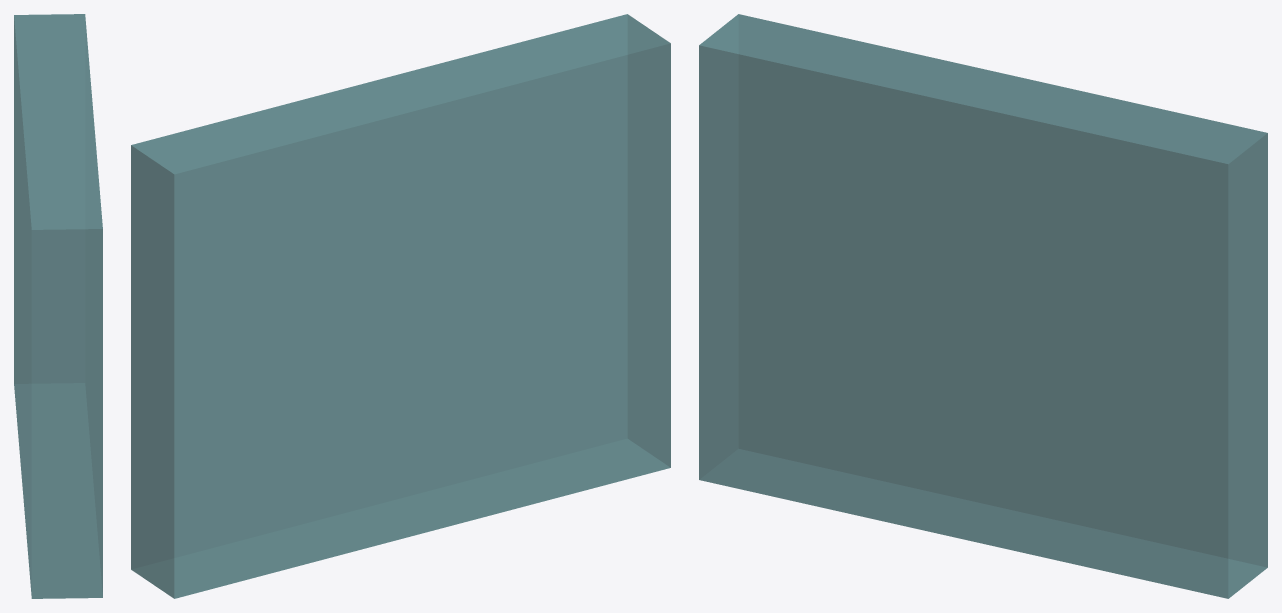
3 renders of one model, left to right at view 1: azimuth 30°, elevation 25°; view 2: azimuth 150°, elevation 25°; view 3: azimuth 270°, elevation 25°, orthographic. The views are drawn at different scales.
Visible parts, largest first — view 1: B-GF-B45; view 2: B-GF-B45; view 3: B-GF-B45.
Part boxes in pixels (x1,y1,x2,y2): B-GF-B45: [14, 14, 102, 598]; B-GF-B45: [131, 14, 670, 598]; B-GF-B45: [699, 14, 1267, 598].
Size of the model in its own units: 0.8896 by 1.2 by 1.42.
